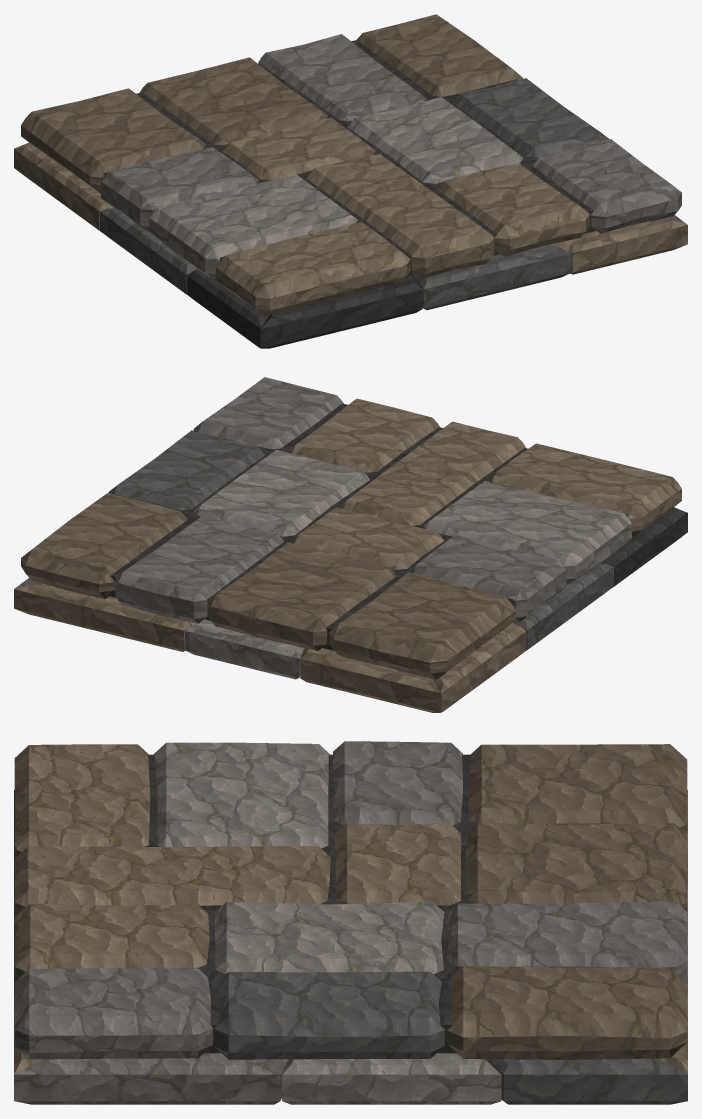
File: flat_roof__cut_stone.glb
The picture shows the model from 3 angles, top to bottom: view 1: azimuth 30°, elevation 25°; view 2: azimuth 150°, elevation 25°; view 3: azimuth 270°, elevation 25°; orthographic projection. The views are drawn at different scales.
Visible parts, largest first — view 1: model; view 2: model; view 3: model.
Boxes of the visible parts, box(x1,y1,x2,y2) form: model: box(14, 14, 687, 348); model: box(14, 377, 687, 712); model: box(14, 741, 687, 1104).
Size of the model in its own units: 1.99 by 0.2845 by 1.99.
7 materials, 7 textured.
